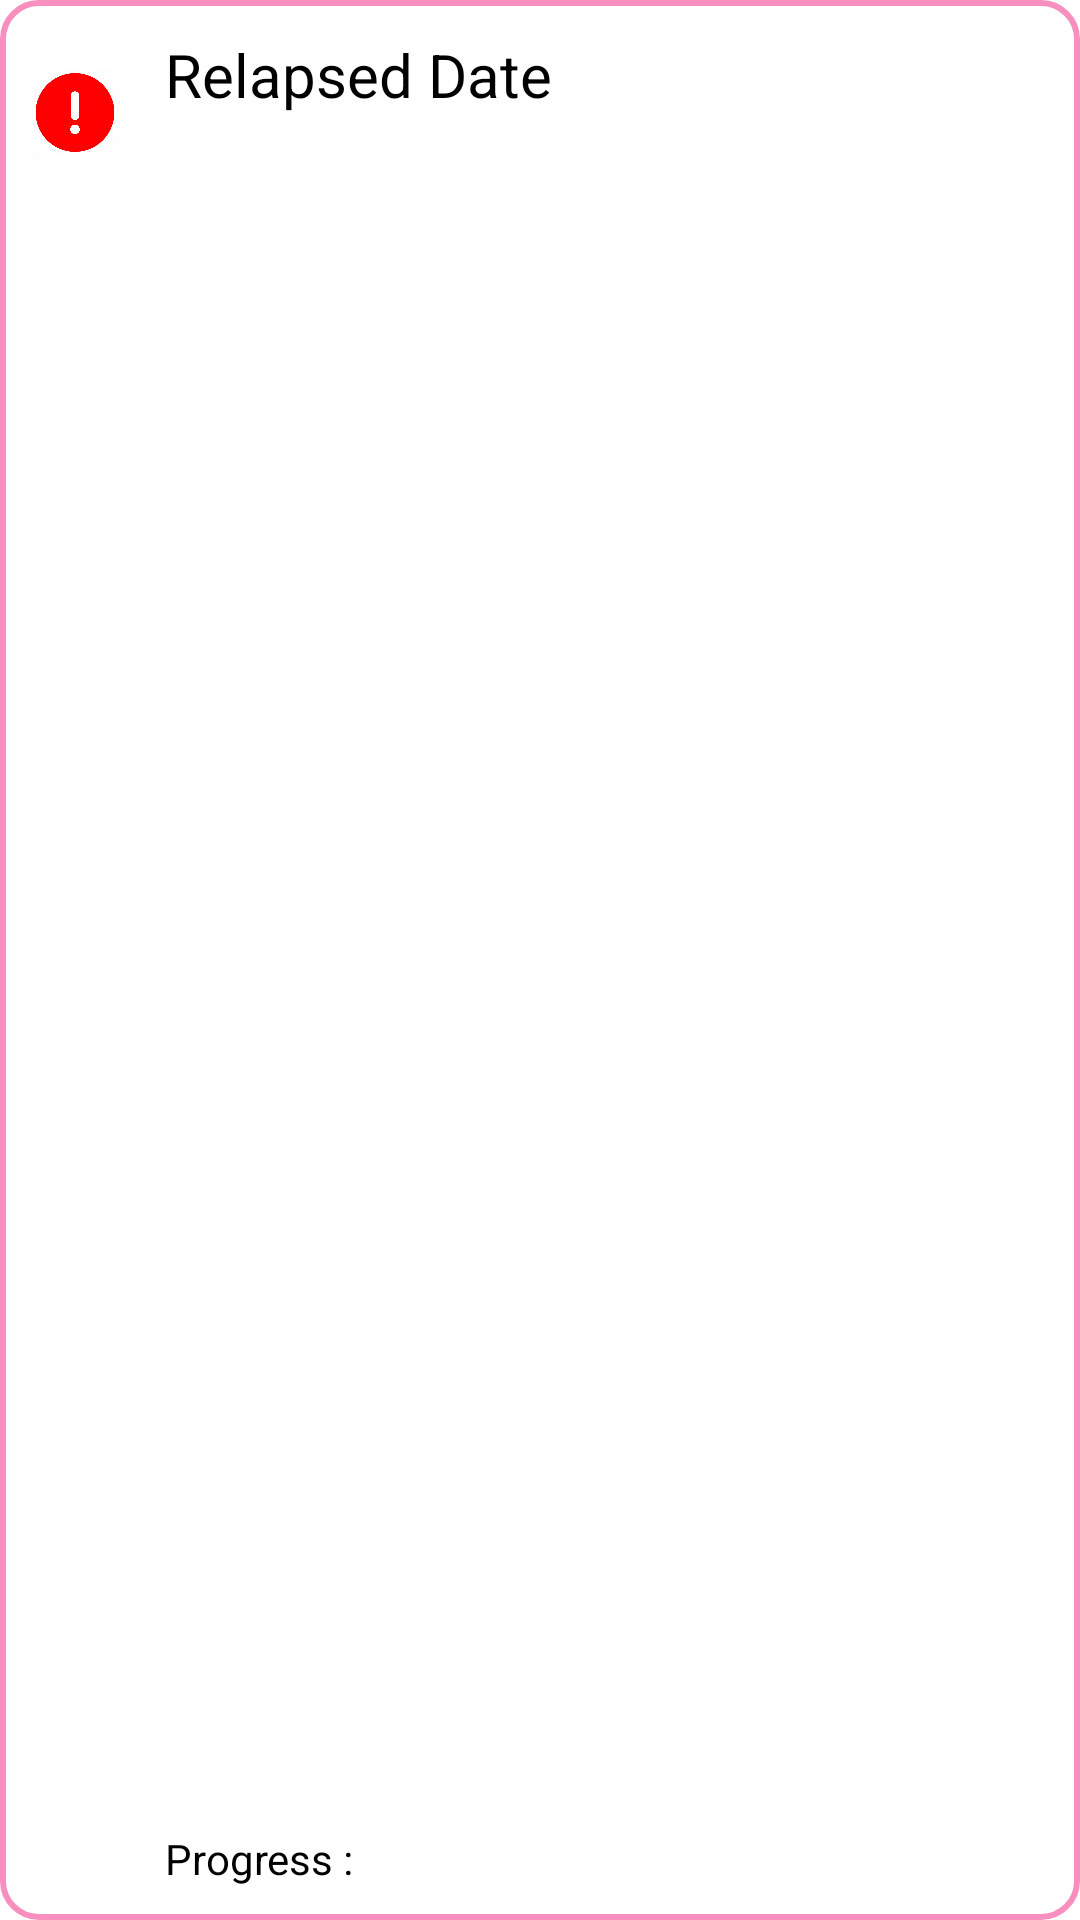

Icon bounding boxes for this 1080px x 1920px phone screenshot, format {"left": x1, "top": y1, "right": x2, "bottom": y2}:
failure: {"left": 36, "top": 73, "right": 114, "bottom": 152}
